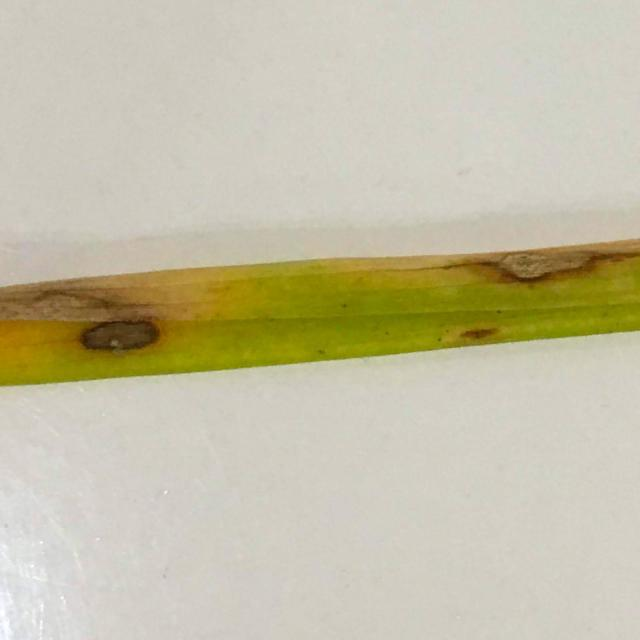Leaf blast: (0, 140, 640, 442)
